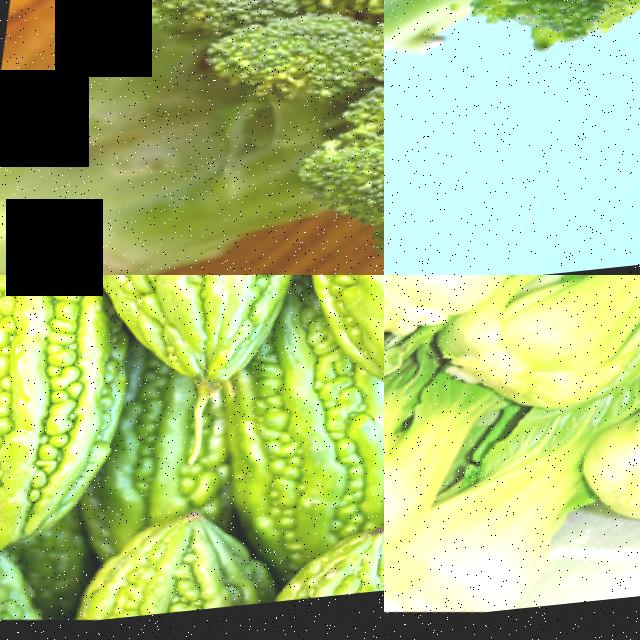bitter gourd: (23, 275, 320, 418), (0, 275, 119, 571), (94, 512, 270, 627), (293, 275, 384, 427), (281, 536, 384, 612)
bok choy: (384, 275, 640, 369), (534, 334, 640, 551), (384, 397, 484, 569)
broccoli: (50, 0, 384, 275), (384, 0, 640, 143)
